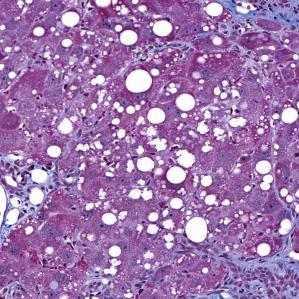fibrosis: (227, 253, 299, 299), (221, 0, 299, 35)
